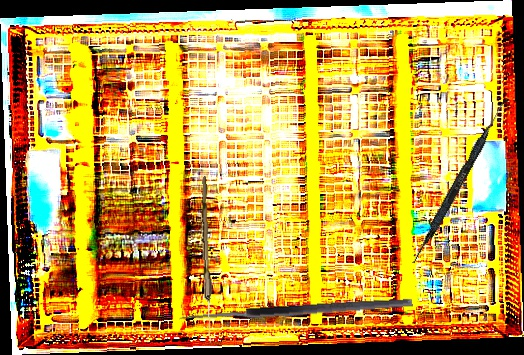Hook Surgical: (178, 295, 414, 336)
Spatula Surgical: (410, 94, 510, 267)
Surgical Spoon: (198, 176, 215, 344)
